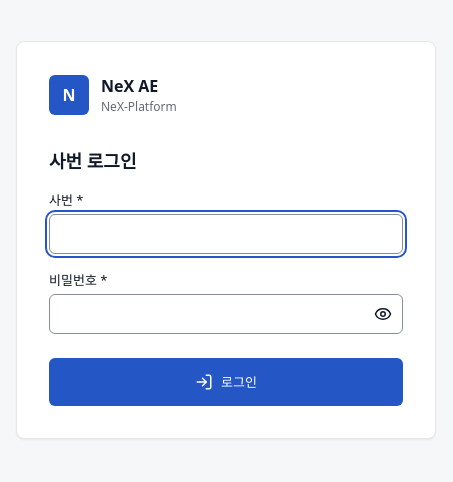
Scenario: modern application foundation › supports password visibility and Caps Lock indication
This screenshot has width=453, height=482.
Click the button named "비밀번호 보기" at (383, 314), box [363,294,403,334]
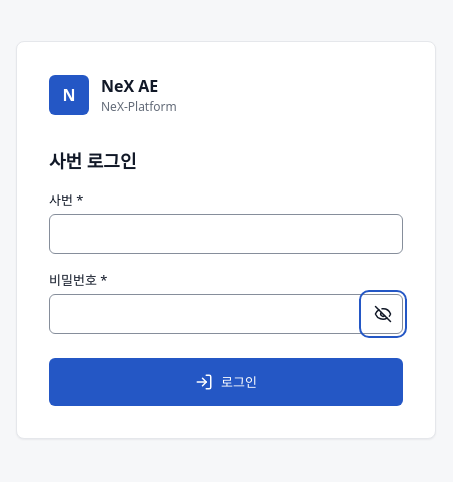
Press A in the field labelled "비밀번호 *", box [49,294,403,334]
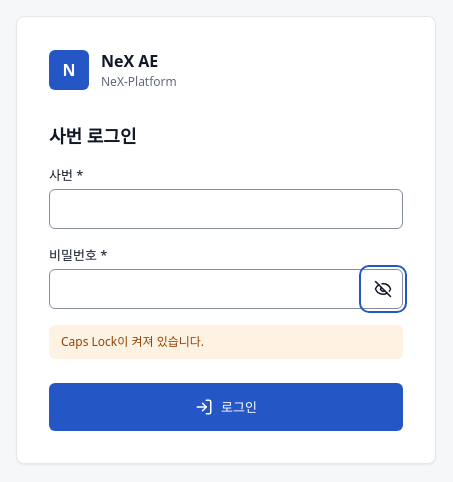
Expected: the message reads "Caps Lock이 켜져 있습니다.", [61,333,204,350]
